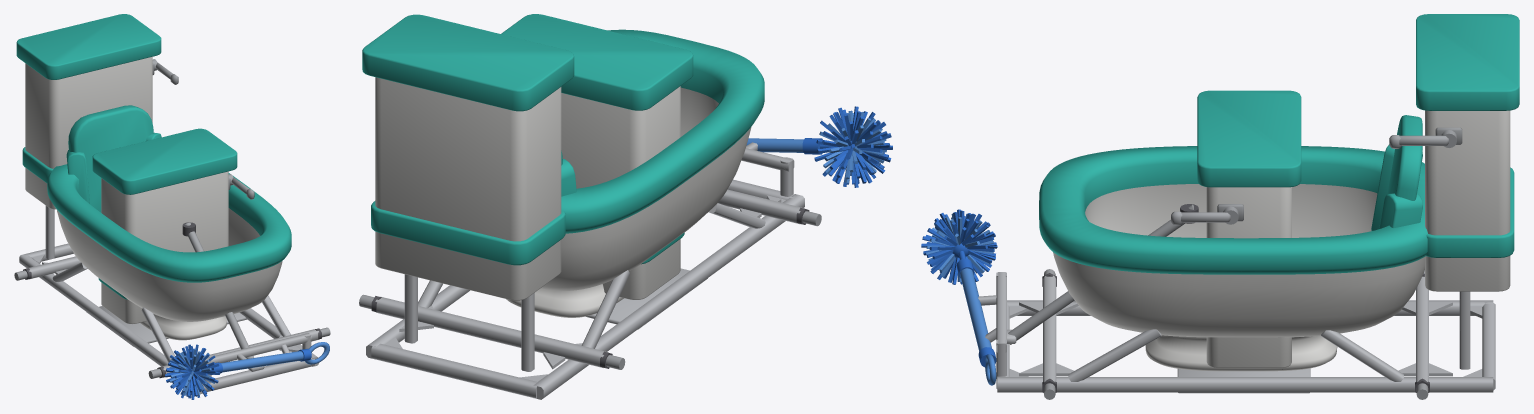
Rendered from toilet.glb.
The picture shows the model from 3 angles, left to right: view 1: azimuth 30°, elevation 25°; view 2: azimuth 150°, elevation 25°; view 3: azimuth 270°, elevation 25°; orthographic projection. The views are drawn at different scales.
Parts seen in each view (by area): view 1: toilet, toilet_sig, toilet_wreck; view 2: toilet, toilet_sig, toilet_wreck; view 3: toilet, toilet_sig, toilet_wreck.
Boxes of the visible parts, bbox=[...] form: toilet: bbox=[14, 14, 330, 399]; toilet_sig: bbox=[92, 128, 254, 323]; toilet_wreck: bbox=[18, 207, 330, 399]; toilet: bbox=[359, 14, 892, 397]; toilet_sig: bbox=[501, 14, 693, 299]; toilet_wreck: bbox=[359, 106, 892, 399]; toilet: bbox=[921, 14, 1519, 393]; toilet_sig: bbox=[1171, 90, 1301, 367]; toilet_wreck: bbox=[921, 209, 1494, 399].
Size of the model in its own units: 1.15 by 1.25 by 2.25.
